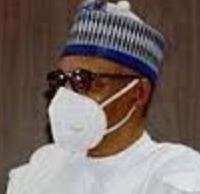with_facemask: (41, 86, 118, 161)
